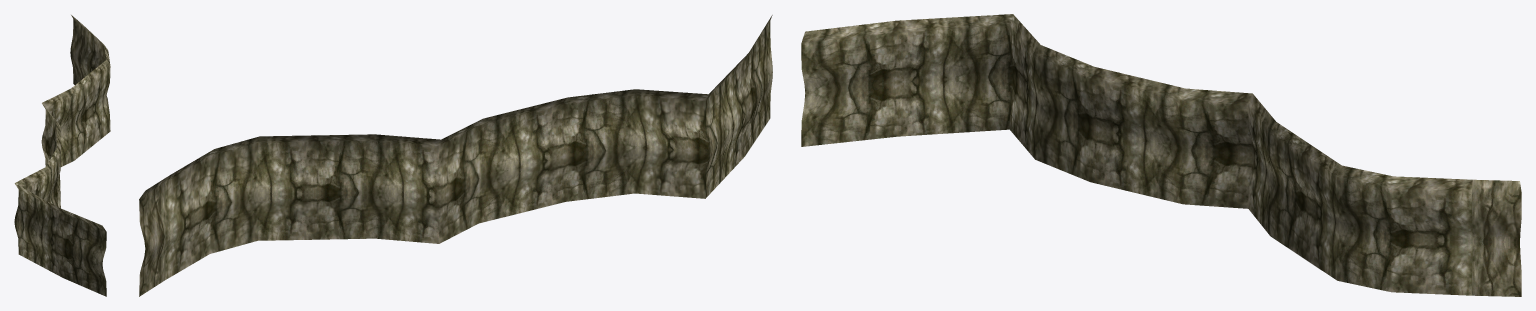
File: CB_NEWPLAYSURFACE_CB_PLAYSURFACE39.fbx
3 views of the same model, side by side, from view 1: azimuth 30°, elevation 25°; view 2: azimuth 150°, elevation 25°; view 3: azimuth 270°, elevation 25° (orthographic). The views are drawn at different scales.
Parts seen in each view (by area): view 1: CB_NEWPLAYSURFACE_CB_PLAYSURFACE39; view 2: CB_NEWPLAYSURFACE_CB_PLAYSURFACE39; view 3: CB_NEWPLAYSURFACE_CB_PLAYSURFACE39.
Boxes of the visible parts, x1,y1,x2,y2 form: CB_NEWPLAYSURFACE_CB_PLAYSURFACE39: [14, 15, 110, 296]; CB_NEWPLAYSURFACE_CB_PLAYSURFACE39: [139, 15, 772, 296]; CB_NEWPLAYSURFACE_CB_PLAYSURFACE39: [801, 14, 1521, 296].
Size of the model in its own units: 236640 by 73541 by 424381.
1 material, 1 textured.
